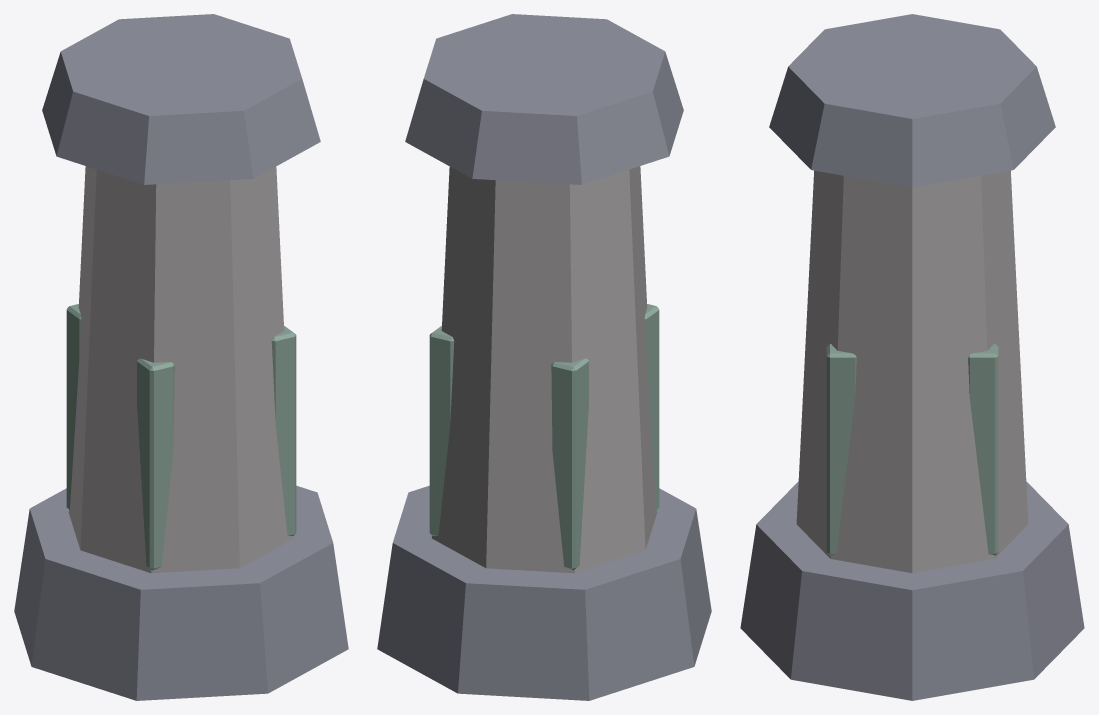
The model's file is pillar.glb.
3 renders of one model, left to right at view 1: azimuth 30°, elevation 25°; view 2: azimuth 150°, elevation 25°; view 3: azimuth 270°, elevation 25°, orthographic.
Visible parts, largest first — view 1: Ancient pillar, Octagonal foot, Broken crown, Moss seam.002, Moss seam.003, Moss seam.001; view 2: Ancient pillar, Octagonal foot, Broken crown, Moss seam.001, Moss seam, Moss seam.002; view 3: Ancient pillar, Octagonal foot, Broken crown, Moss seam, Moss seam.003.
Boxes of the visible parts, x1=… form: Ancient pillar: x1=68, y1=166, x2=294, y2=573; Octagonal foot: x1=14, y1=485, x2=348, y2=700; Broken crown: x1=42, y1=14, x2=320, y2=184; Moss seam.002: x1=137, y1=358, x2=174, y2=570; Moss seam.003: x1=271, y1=326, x2=296, y2=535; Moss seam.001: x1=66, y1=304, x2=81, y2=509; Ancient pillar: x1=431, y1=166, x2=657, y2=573; Octagonal foot: x1=377, y1=485, x2=711, y2=700; Broken crown: x1=405, y1=14, x2=683, y2=184; Moss seam.001: x1=551, y1=358, x2=588, y2=570; Moss seam: x1=429, y1=326, x2=454, y2=535; Moss seam.002: x1=644, y1=304, x2=659, y2=509; Ancient pillar: x1=796, y1=170, x2=1028, y2=573; Octagonal foot: x1=740, y1=481, x2=1084, y2=700; Broken crown: x1=769, y1=14, x2=1055, y2=187; Moss seam: x1=968, y1=344, x2=998, y2=555; Moss seam.003: x1=826, y1=344, x2=856, y2=555.
Bounding box in the file's own units: 1.08 × 1.95 × 1.08.
